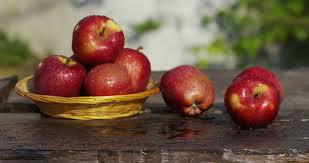apple: (41, 50, 83, 101), (76, 12, 121, 55), (88, 63, 130, 93), (123, 48, 153, 88)
